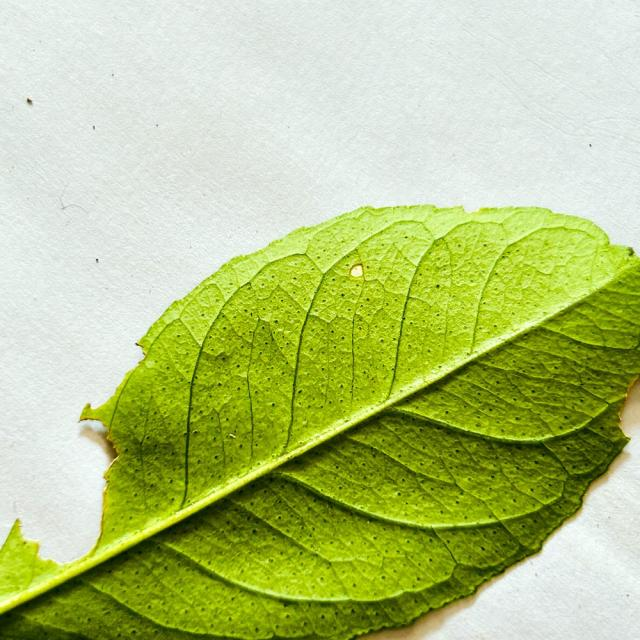Deficiency Leaf: (8, 418, 116, 549), (87, 342, 143, 406)
Lemon: (0, 206, 639, 639)
